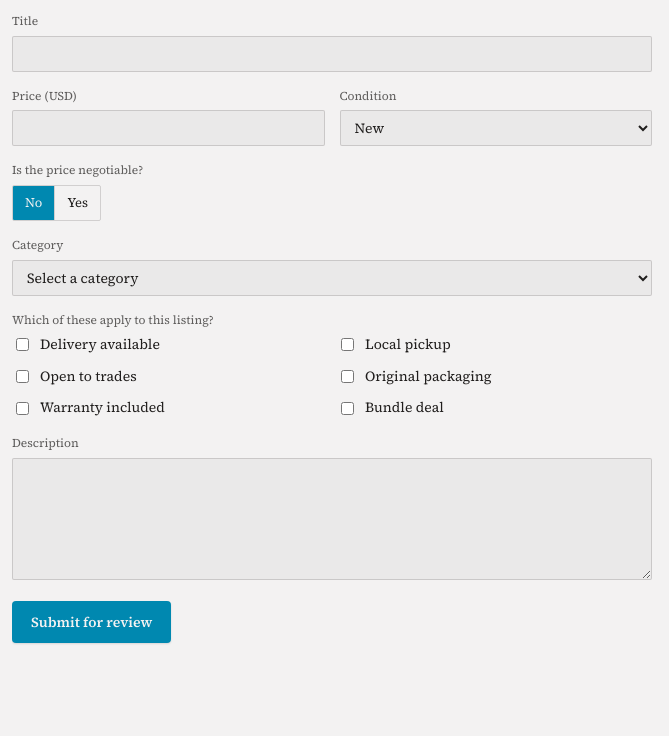
ItemForm › only shows the minimum price field when negotiable is Yes
Check: the field labelled "minimum acceptable price" is not shown
Click the radio button labelled "Yes": (77, 203) [54, 186, 100, 220]
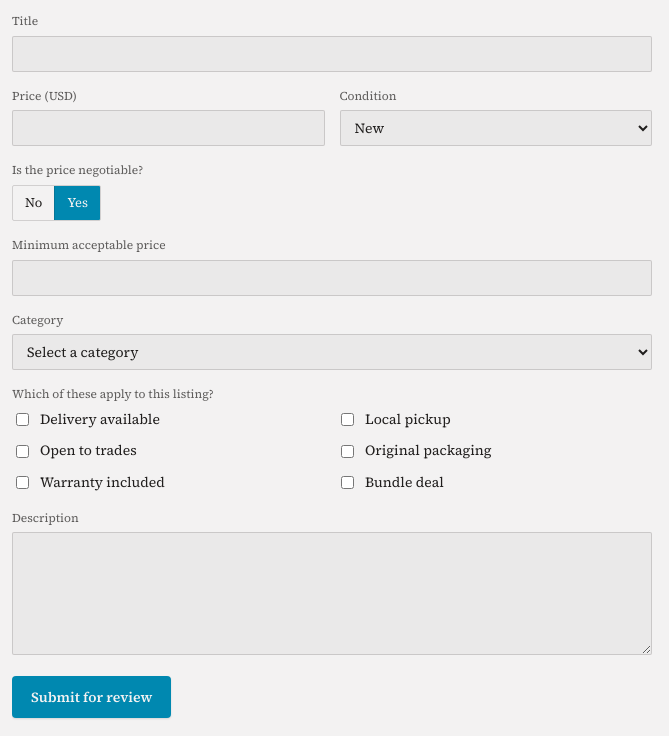
Check: the number field labelled "Minimum acceptable price" is shown, box [12, 260, 652, 296]
Click the radio button labelled "No": (34, 202) [25, 194, 42, 211]
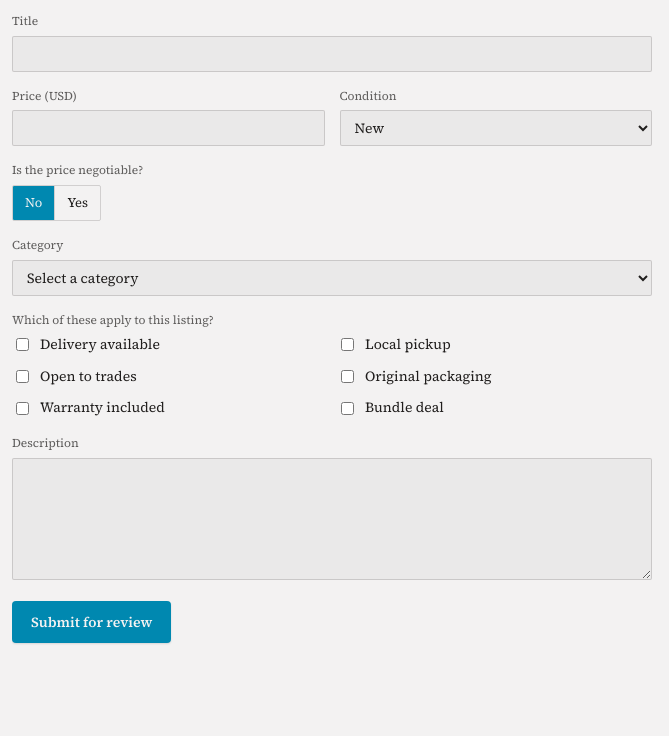
Check: the label labelled "Minimum acceptable price" is gone
